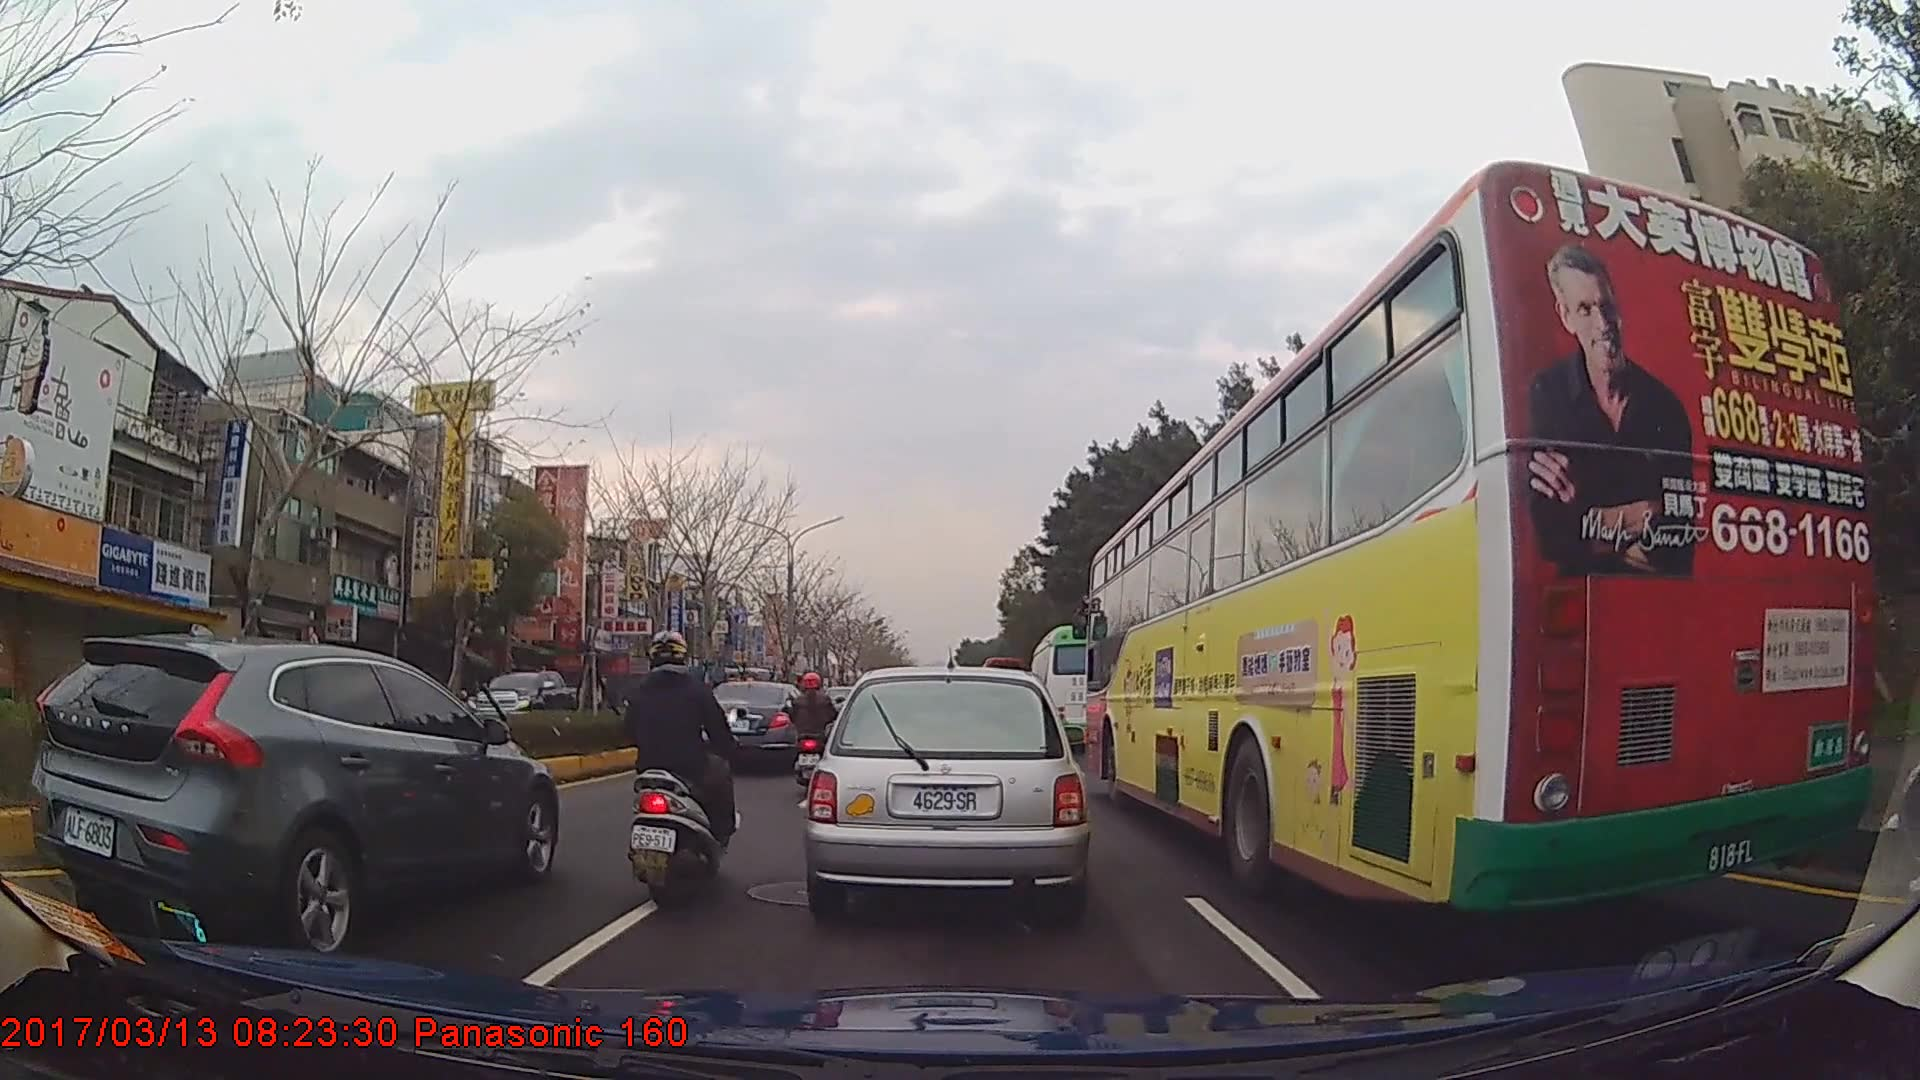rider: (618, 628, 737, 911), (785, 672, 842, 791)
vehicle: (1083, 157, 1884, 922), (26, 634, 558, 959), (805, 665, 1088, 928), (1027, 626, 1117, 749), (697, 680, 813, 773), (467, 667, 587, 732)
